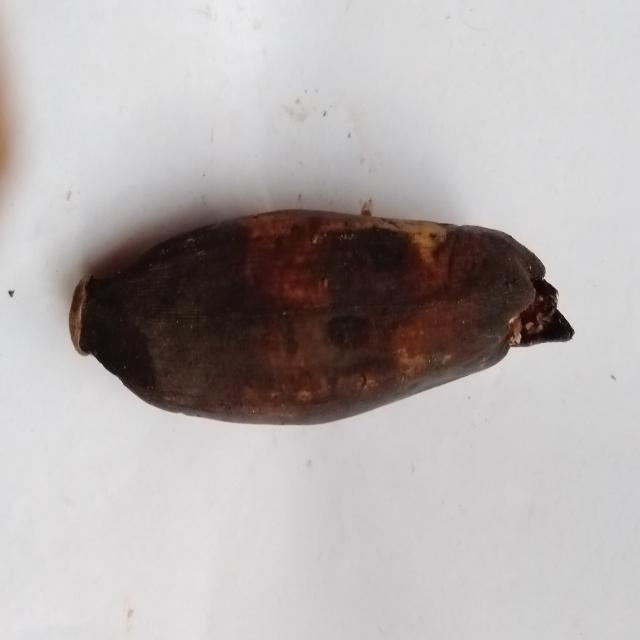banana: (70, 211, 573, 423)
